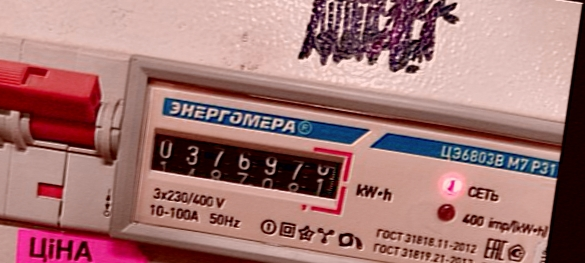0: (158, 138, 175, 162)
1: (312, 177, 327, 199)
3: (184, 145, 202, 168)
6: (236, 148, 254, 173)
7: (209, 145, 227, 170), (289, 159, 306, 184)
9: (262, 154, 280, 179)
screen: (137, 119, 357, 221)
